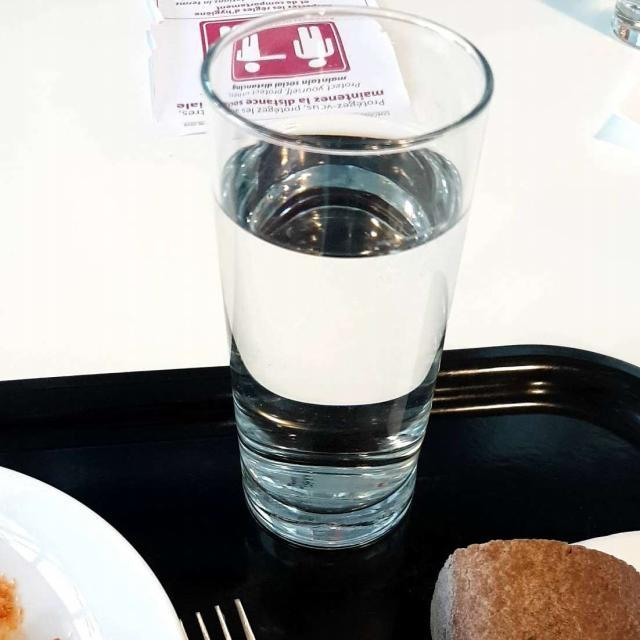bread: (439, 543, 636, 632)
water: (221, 140, 459, 517)
